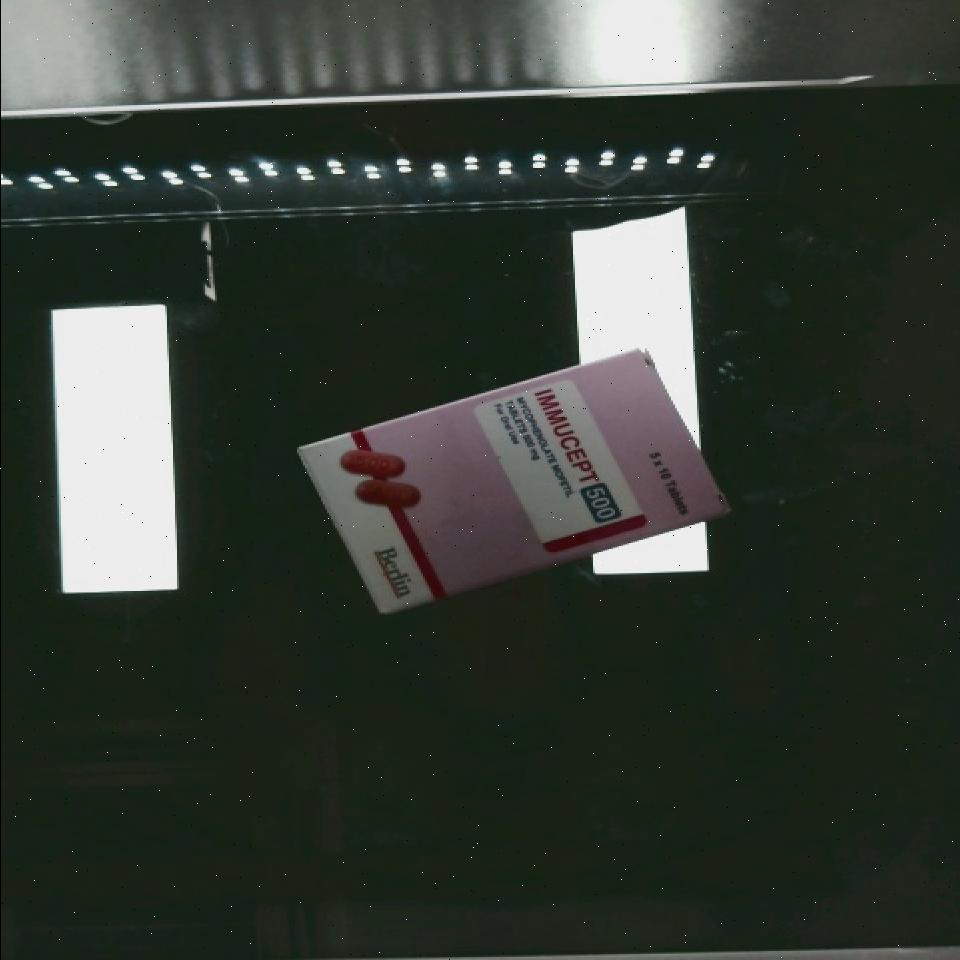medicine_box: (299, 334, 725, 627)
medicine_label_obb: (517, 370, 640, 548)
